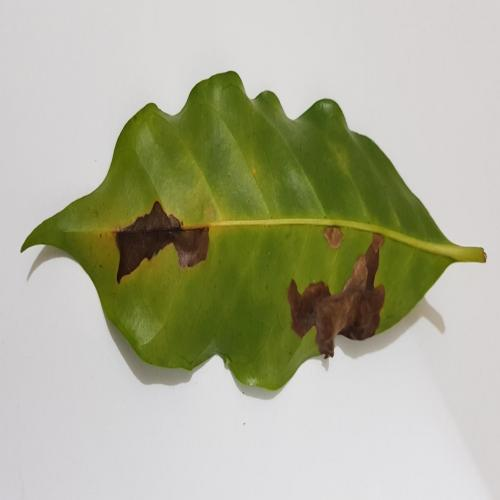leaf: (99, 201, 217, 284)
